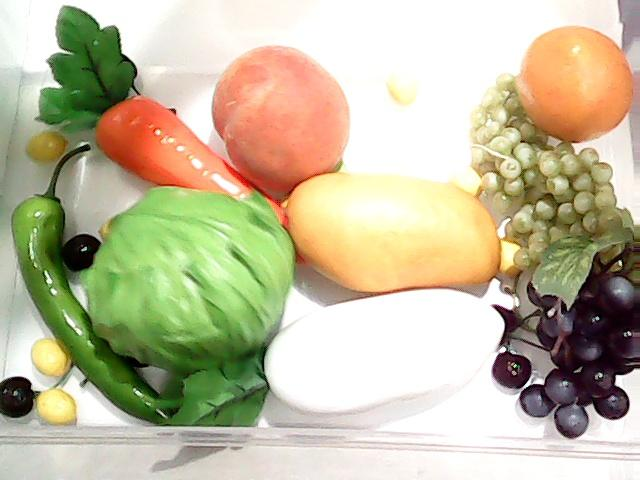cabbage: (72, 175, 312, 381)
carrot: (36, 5, 308, 263)
grape: (472, 68, 640, 308), (518, 225, 638, 442)
lemon: (510, 21, 640, 138)
mango: (285, 169, 501, 295)
peach: (212, 42, 350, 192)
pepper: (11, 176, 192, 428)
radish: (159, 284, 507, 464)
